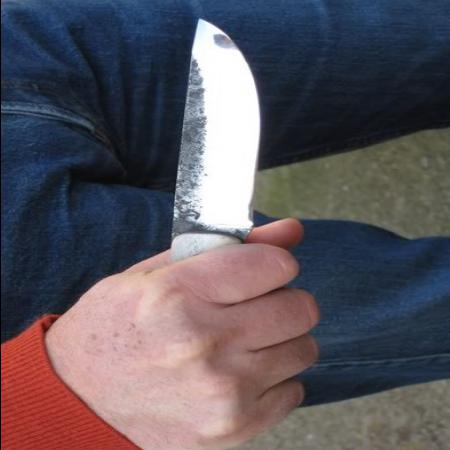long weapon: (152, 14, 322, 380)
